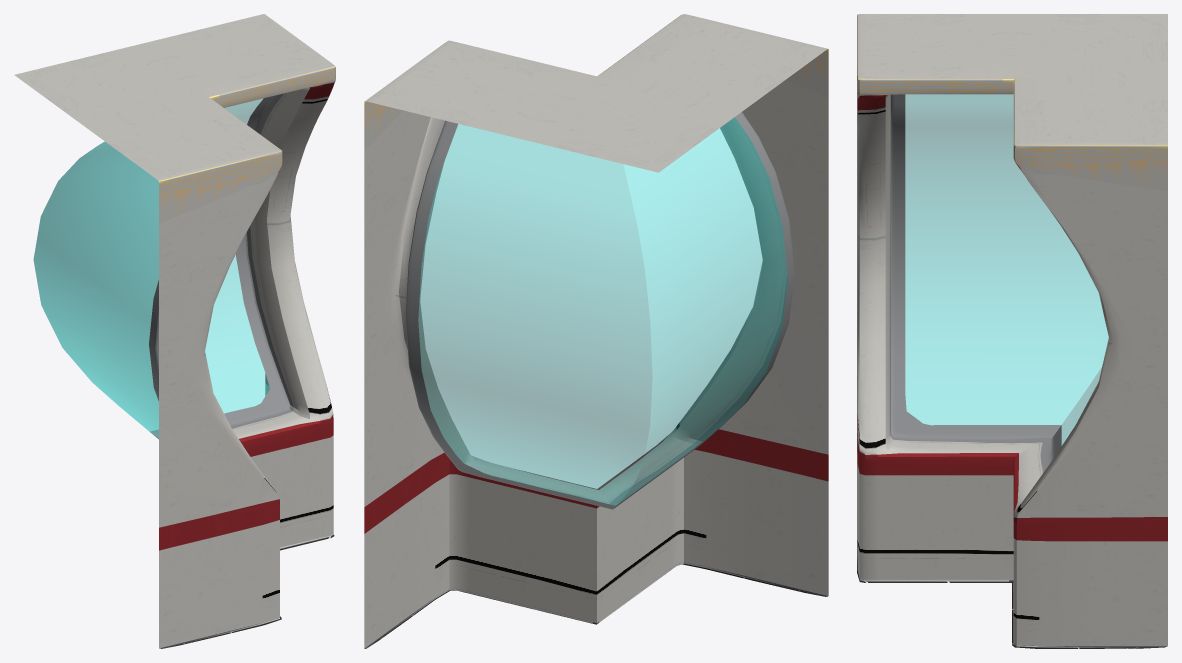
File: G_Env_Arch_Wall_Window_01_Corner.fbx
The picture shows the model from 3 angles, left to right: view 1: azimuth 30°, elevation 25°; view 2: azimuth 150°, elevation 25°; view 3: azimuth 270°, elevation 25°; orthographic projection. The views are drawn at different scales.
Visible parts, largest first — view 1: G_Env_Arch_Wall_Window_01_Corner; view 2: G_Env_Arch_Wall_Window_01_Corner; view 3: G_Env_Arch_Wall_Window_01_Corner.
Part boxes in pixels (x1,y1,x2,y2): G_Env_Arch_Wall_Window_01_Corner: (14,14,335,648); G_Env_Arch_Wall_Window_01_Corner: (364,14,828,648); G_Env_Arch_Wall_Window_01_Corner: (857,14,1167,648).
Bounding box in the file's own units: 503 × 900 × 503.
